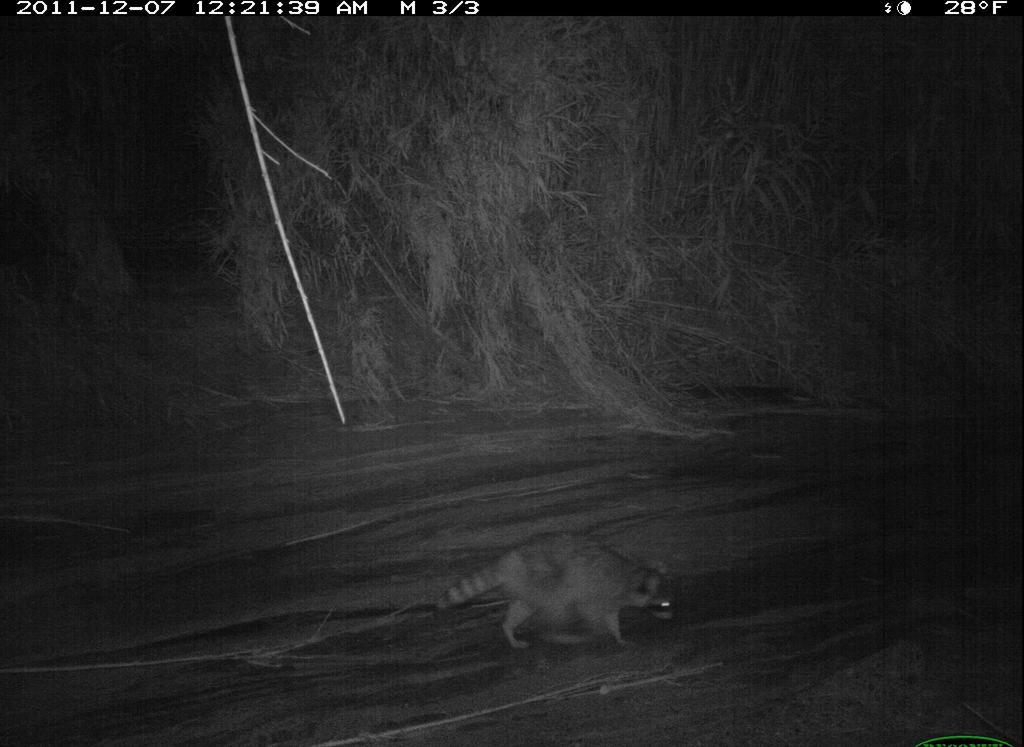raccoon: (420, 518, 689, 656)
